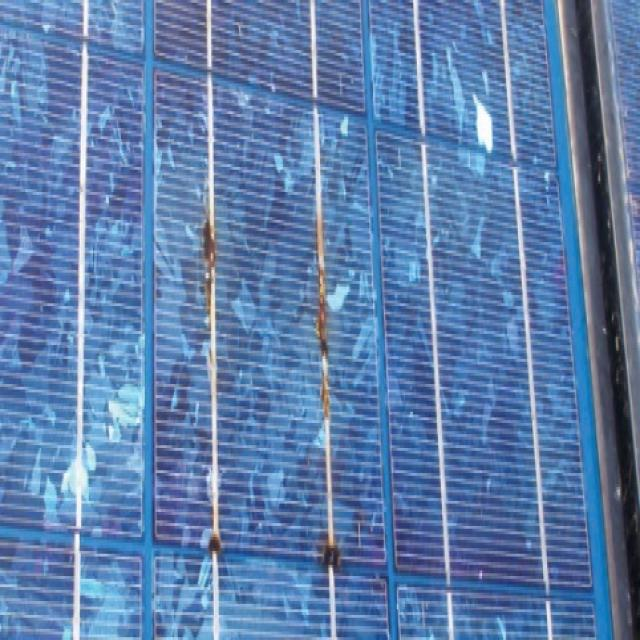Electrical-damage: (162, 169, 356, 578)
